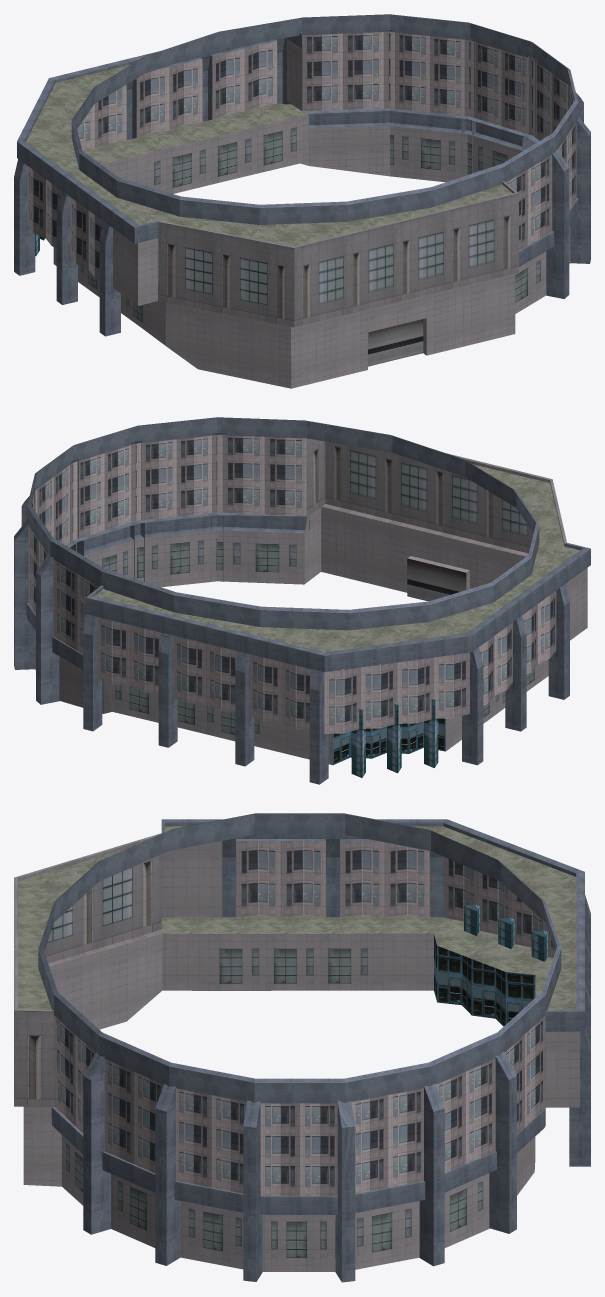
Rendered from libbase1_lan.obj.
The picture shows the model from 3 angles, top to bottom: view 1: azimuth 30°, elevation 25°; view 2: azimuth 150°, elevation 25°; view 3: azimuth 270°, elevation 25°; orthographic projection. The views are drawn at different scales.
Visible parts, largest first — view 1: LibBase1_LAn; view 2: LibBase1_LAn; view 3: LibBase1_LAn.
Boxes of the visible parts, bbox=[...] form: LibBase1_LAn: bbox=[14, 14, 590, 388]; LibBase1_LAn: bbox=[14, 417, 590, 784]; LibBase1_LAn: bbox=[14, 813, 590, 1282].
Size of the model in its own units: 72.1 by 22.66 by 60.63.
